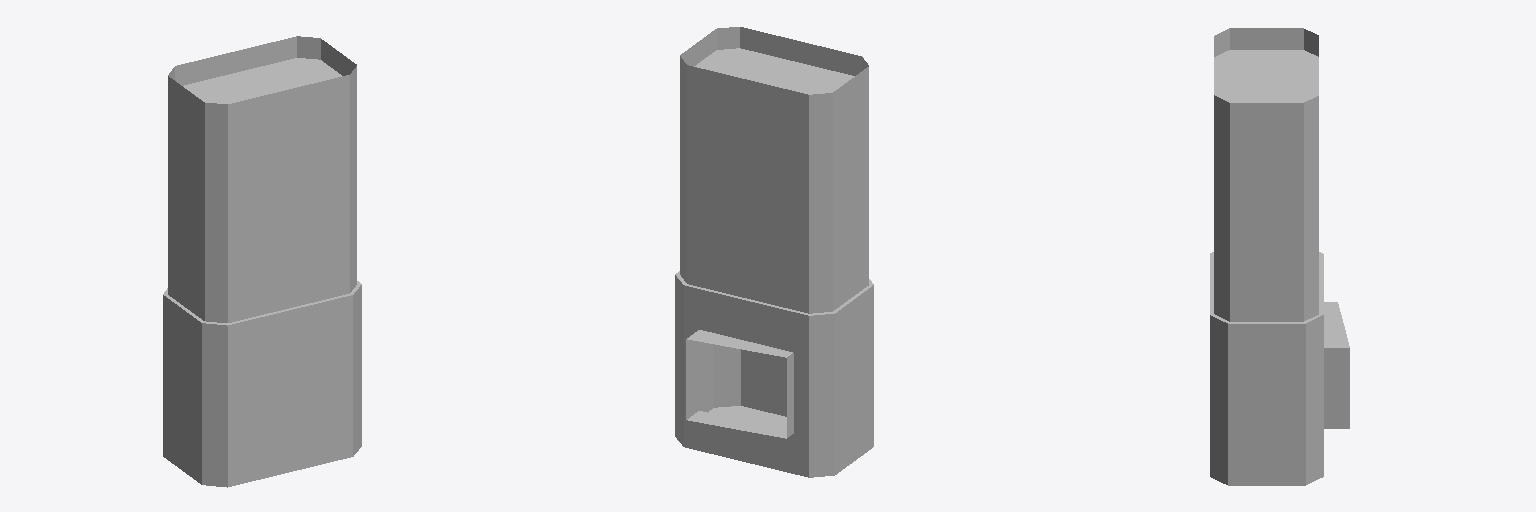
File: Missile Launcher2.obj
3 renders of one model, left to right at view 1: azimuth 30°, elevation 25°; view 2: azimuth 150°, elevation 25°; view 3: azimuth 270°, elevation 25°, orthographic.
Parts seen in each view (by area): view 1: Cube.000_Cube.002; view 2: Cube.000_Cube.002; view 3: Cube.000_Cube.002.
Boxes of the visible parts, box(x1,y1,x2,y2) form: Cube.000_Cube.002: box(163, 36, 361, 487); Cube.000_Cube.002: box(675, 27, 873, 477); Cube.000_Cube.002: box(1210, 28, 1349, 485).
Bounding box in the file's own units: 1.76 × 4 × 1.33.